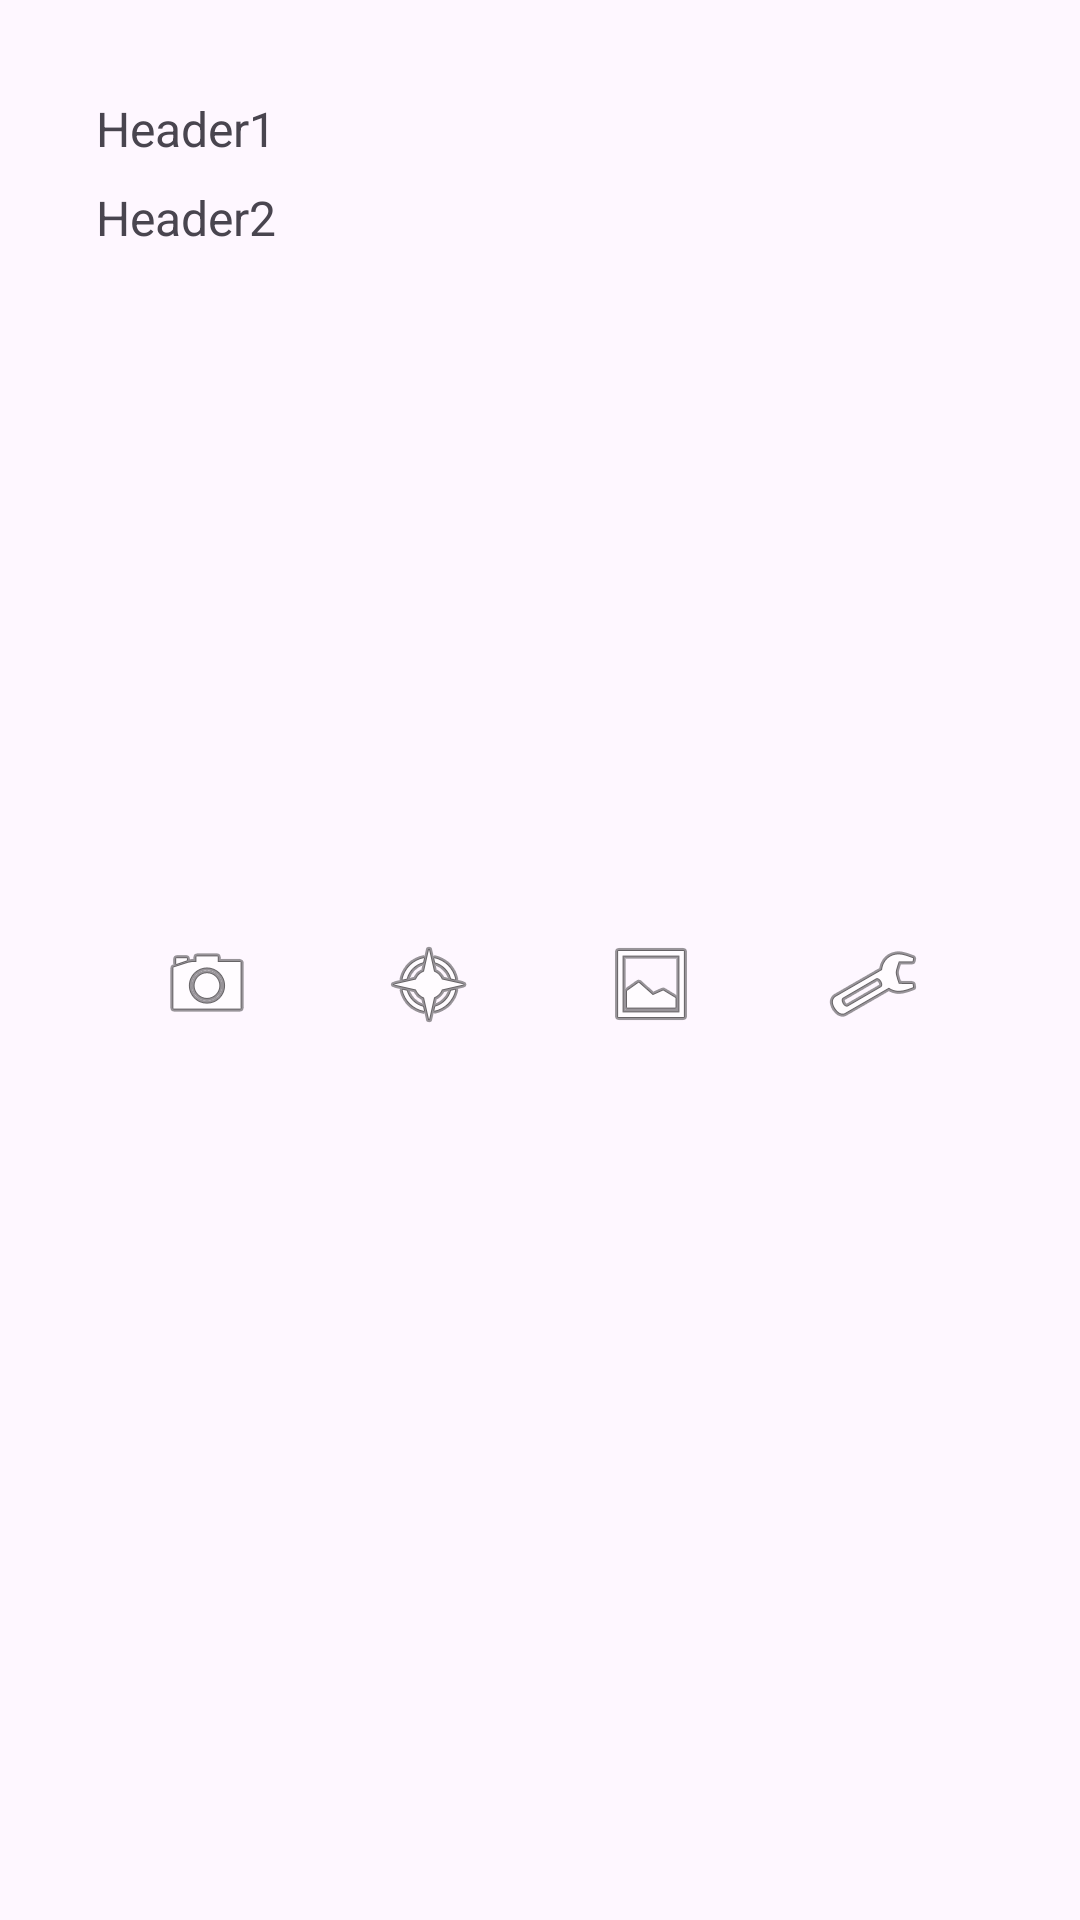

Icons on this 1080 x 1920 Android screen, each with its box as bbox(x1, y1, x2, y2):
camera: bbox(170, 953, 244, 1012)
compass: bbox(391, 947, 467, 1022)
gallery: bbox(615, 948, 687, 1020)
manage: bbox(830, 951, 916, 1017)
